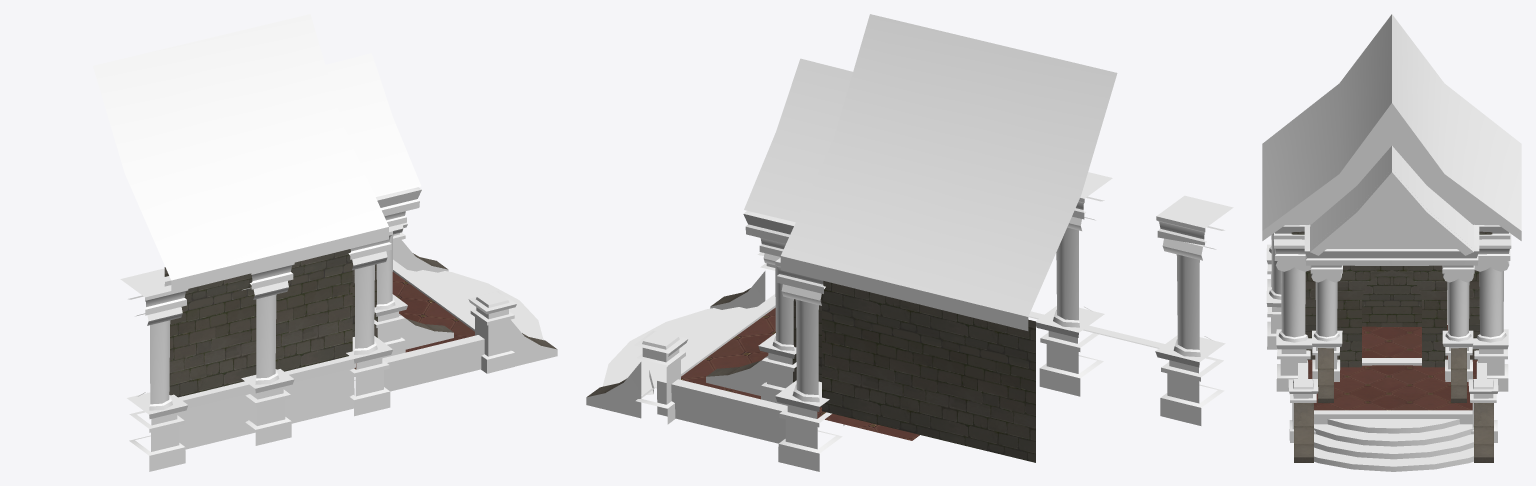
Rendered from palace_gonghui01.glb.
The picture shows the model from 3 angles, left to right: view 1: azimuth 30°, elevation 25°; view 2: azimuth 150°, elevation 25°; view 3: azimuth 270°, elevation 25°; orthographic projection. The views are drawn at different scales.
Parts seen in each view (by area): view 1: cs_zhucheng_jianzhu03, cs_zhucheng_jianzhu02, cs_zhucheng_qiang01, cs_zhucheng_dm02; view 2: cs_zhucheng_jianzhu03, cs_zhucheng_jianzhu02, cs_zhucheng_qiang01, cs_zhucheng_dm02, cs_zhucheng_jianzhu04; view 3: cs_zhucheng_jianzhu03, cs_zhucheng_jianzhu02, cs_zhucheng_qiang01, cs_zhucheng_dm02, cs_zhucheng_jianzhu04.
Boxes of the visible parts, x1,y1,x2,y2 form: cs_zhucheng_jianzhu03: [93, 14, 420, 292]; cs_zhucheng_jianzhu02: [120, 187, 557, 471]; cs_zhucheng_qiang01: [164, 249, 377, 397]; cs_zhucheng_dm02: [354, 272, 474, 369]; cs_zhucheng_jianzhu03: [744, 14, 1117, 330]; cs_zhucheng_jianzhu02: [586, 172, 1233, 471]; cs_zhucheng_qiang01: [792, 281, 1035, 462]; cs_zhucheng_dm02: [681, 307, 919, 440]; cs_zhucheng_jianzhu04: [587, 288, 760, 396]; cs_zhucheng_jianzhu03: [1262, 14, 1521, 255]; cs_zhucheng_jianzhu02: [1266, 224, 1511, 471]; cs_zhucheng_qiang01: [1291, 231, 1492, 367]; cs_zhucheng_dm02: [1307, 325, 1477, 410]; cs_zhucheng_jianzhu04: [1294, 348, 1493, 462].
Bounding box in the file's own units: 14.67 × 10.72 × 8.81.
Materials: 5 (3 with a texture image).
